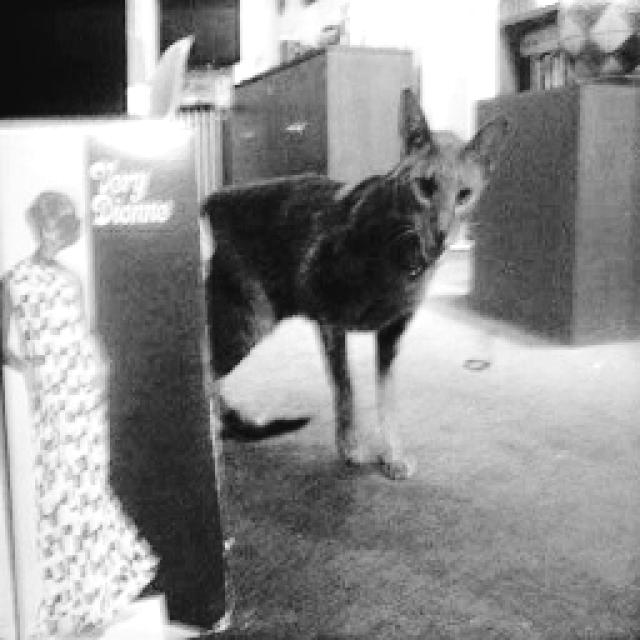cat: (191, 71, 516, 499)
